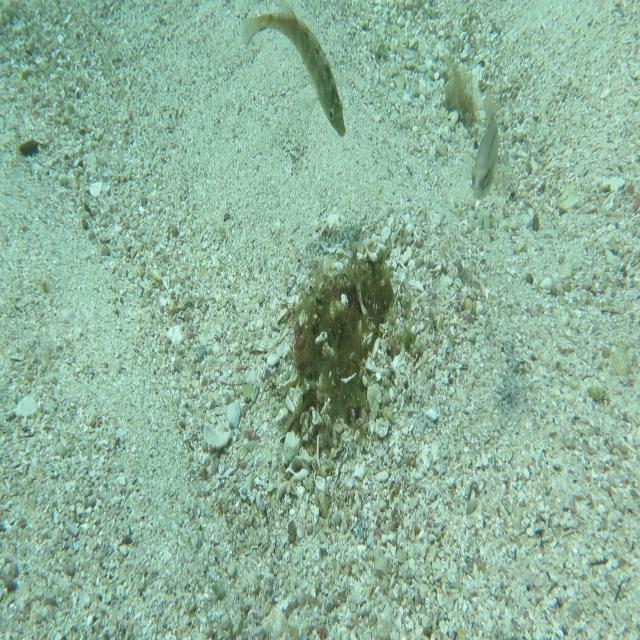CHASE_FLEE: (239, 0, 347, 139)
female: (469, 90, 503, 204)
nest: (266, 222, 410, 458)
